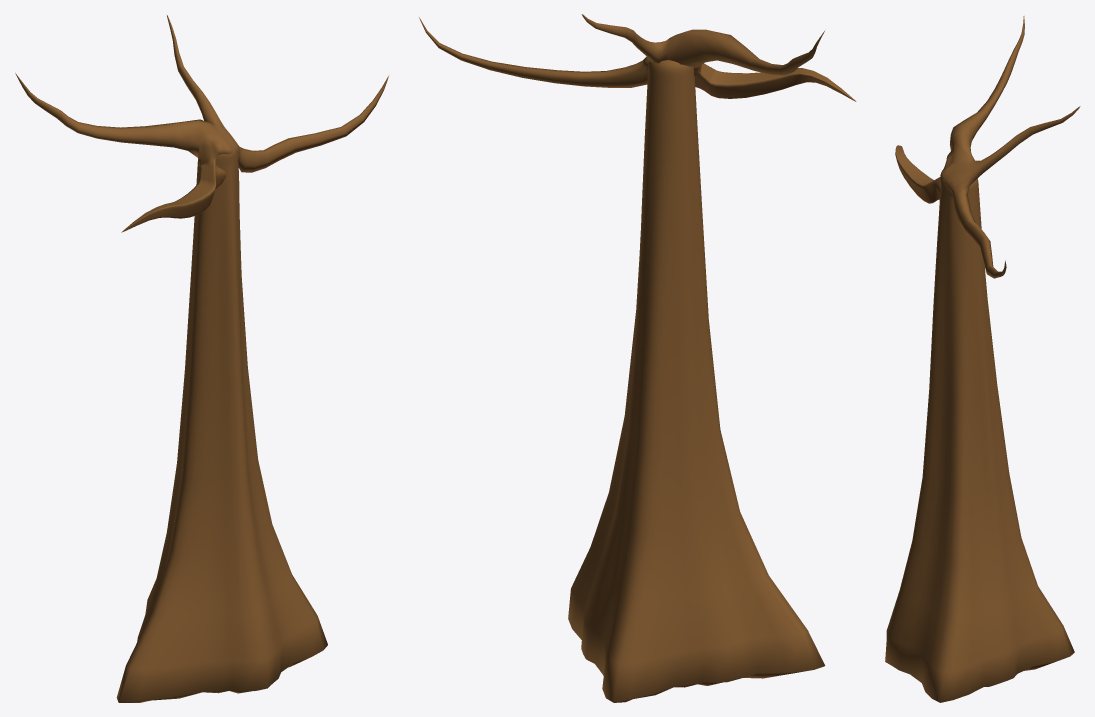
The model's file is dead_tree.fbx.
3 renders of one model, left to right at view 1: azimuth 30°, elevation 25°; view 2: azimuth 150°, elevation 25°; view 3: azimuth 270°, elevation 25°, orthographic. The views are drawn at different scales.
Parts seen in each view (by area): view 1: polySurface11; view 2: polySurface11; view 3: polySurface11.
Part boxes in pixels (box(x1,y1,x2,y2)): polySurface11: box(15, 15, 388, 702); polySurface11: box(419, 14, 856, 702); polySurface11: box(885, 16, 1080, 702).
Bounding box in the file's own units: 0.4593 × 0.7399 × 0.2281.
